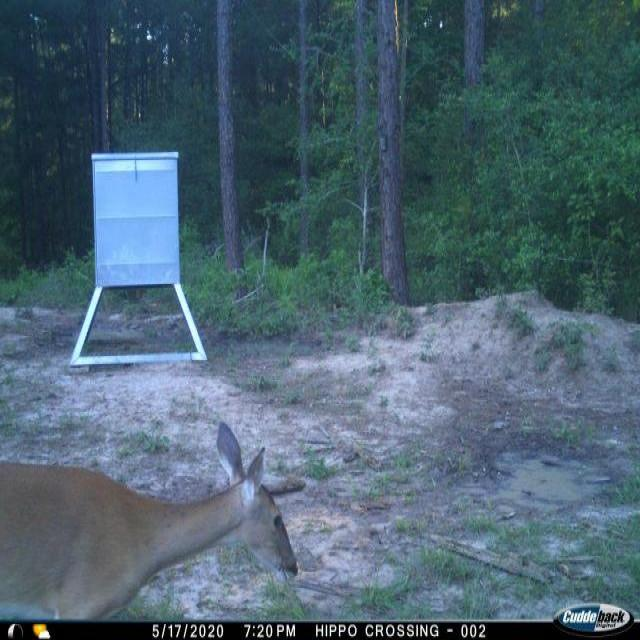deer: (0, 417, 303, 618)
